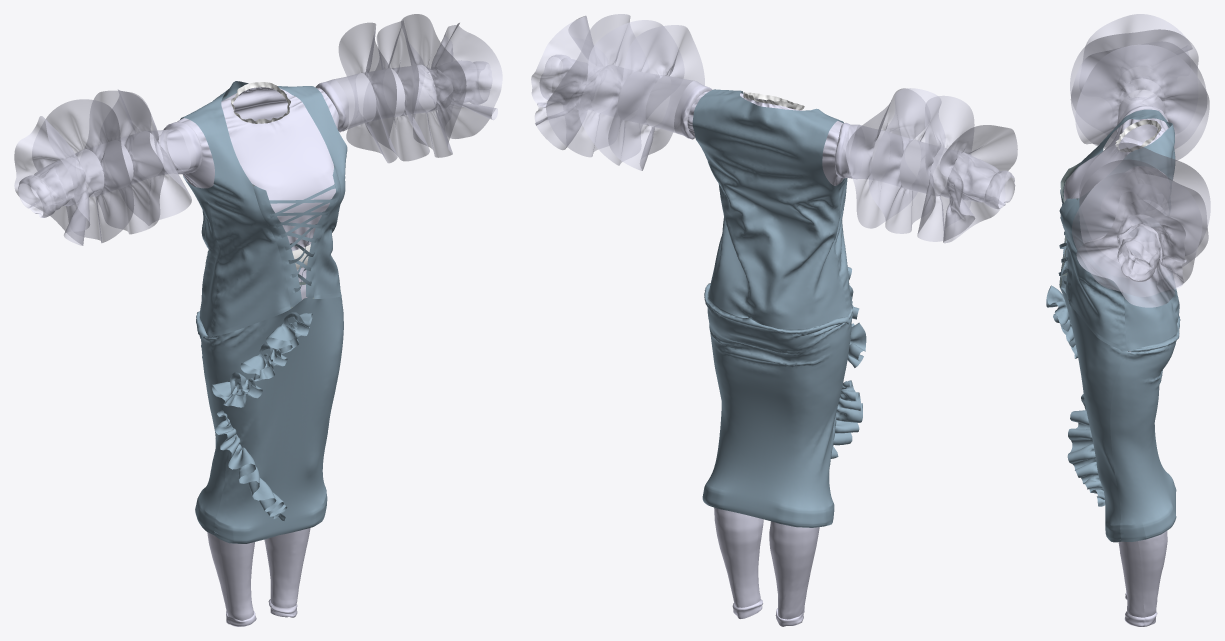
File: G_clothe10.glb
The picture shows the model from 3 angles, left to right: view 1: azimuth 30°, elevation 25°; view 2: azimuth 150°, elevation 25°; view 3: azimuth 270°, elevation 25°; orthographic projection. The views are drawn at different scales.
Visible parts, largest first — view 1: Garment; view 2: Garment; view 3: Garment.
Part boxes in pixels (x1,y1,x2,y2): Garment: (14,14,502,626); Garment: (531,14,1017,626); Garment: (1046,14,1210,626).
Size of the model in its own units: 1.23 by 1.43 by 0.4118.
Materials: 1 (1 with a texture image).
